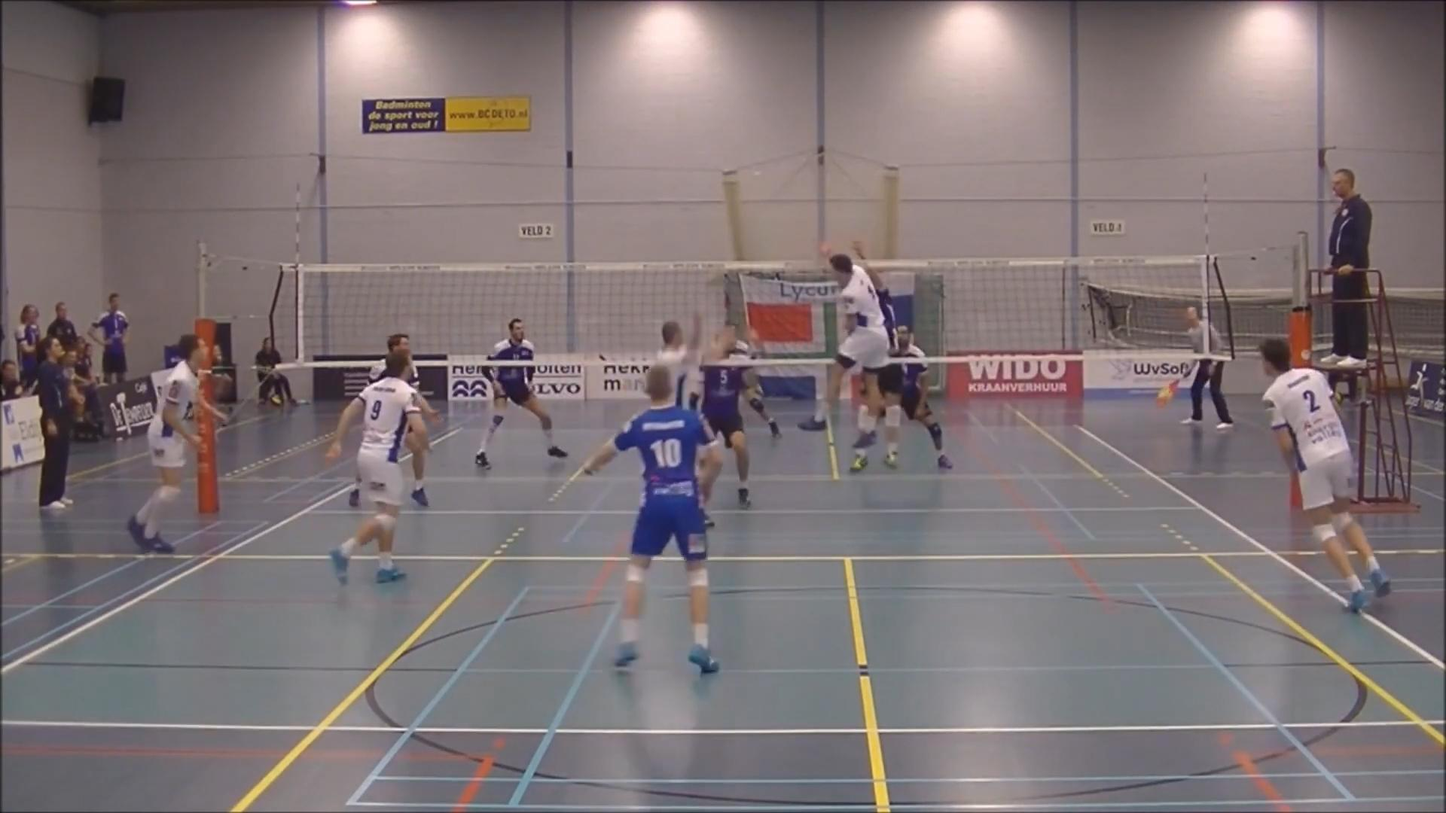attacco: (794, 233, 908, 465)
muro: (820, 223, 924, 467)
